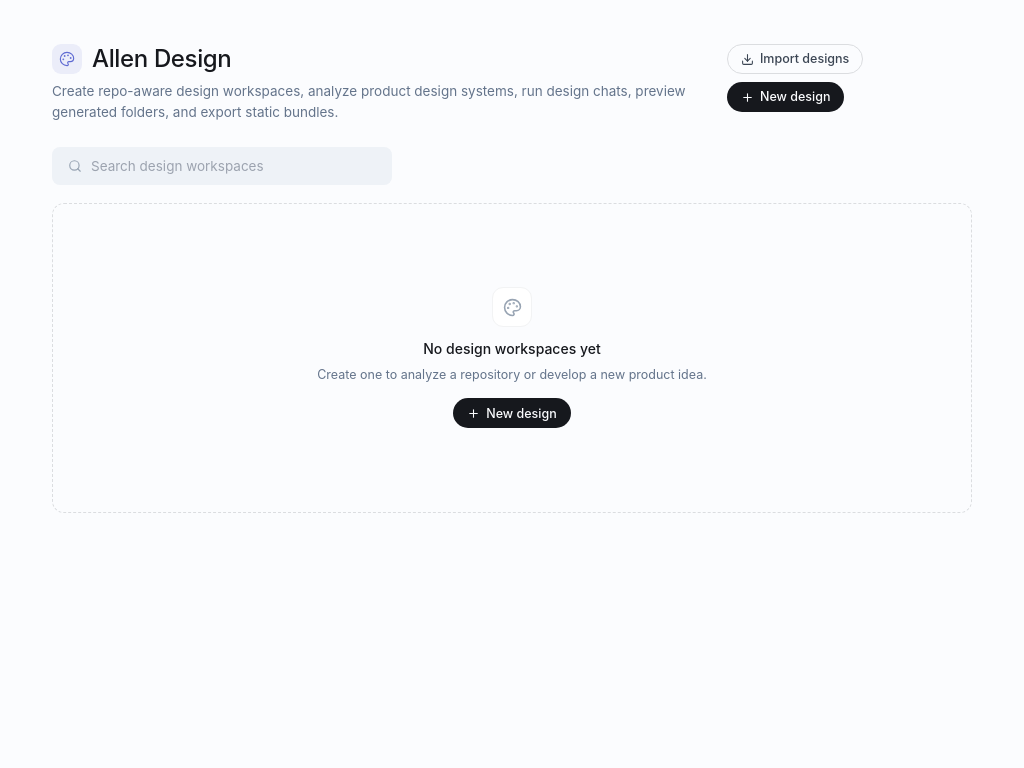
DesignStudioPage › opens the new-design modal with both entry modes
Expected: the heading "No design workspaces yet" is shown, [423,338,601,360]
Step 1. Click the 1st button "New design" → (786,97), box [727,82,844,112]
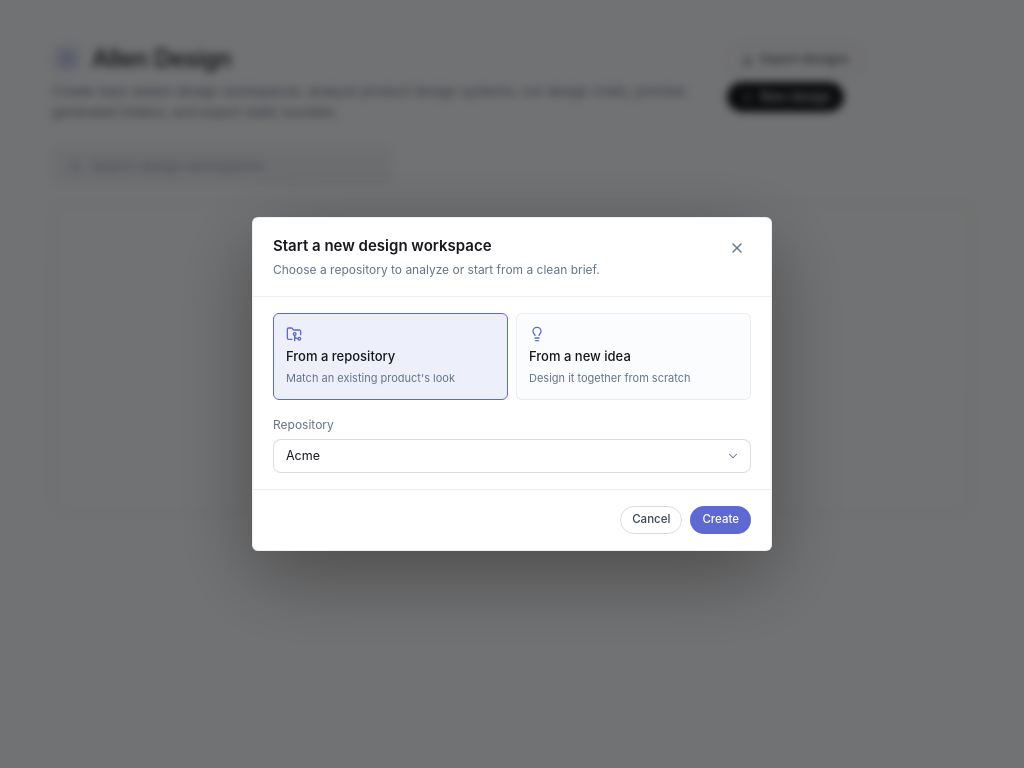
Expected: the text "From a repository" is shown, [286,346,395,366]
Expected: the text "From a new idea" is shown, [529,346,631,366]
